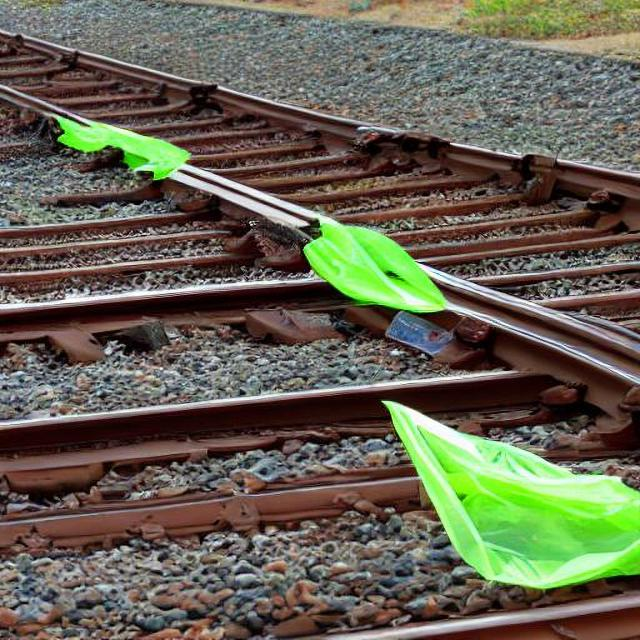plastic bag: (381, 400, 633, 586), (303, 210, 450, 314), (35, 102, 192, 187)
